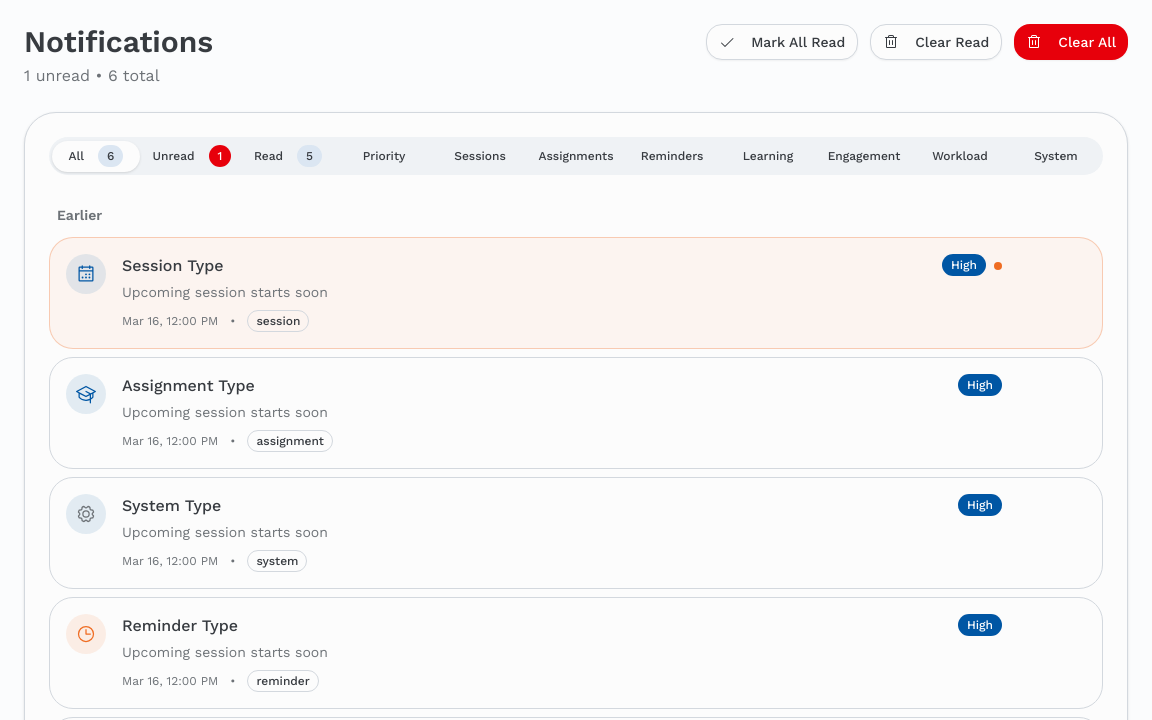
Notifications › handles notifications with different types
Expected: the text "Session Type" is shown, left=122, top=256, right=224, bottom=275
Expected: the text "Assignment Type" is shown, left=122, top=376, right=255, bottom=395
Click the tab "Sessions" at (480, 156), box left=436, top=140, right=524, bottom=172
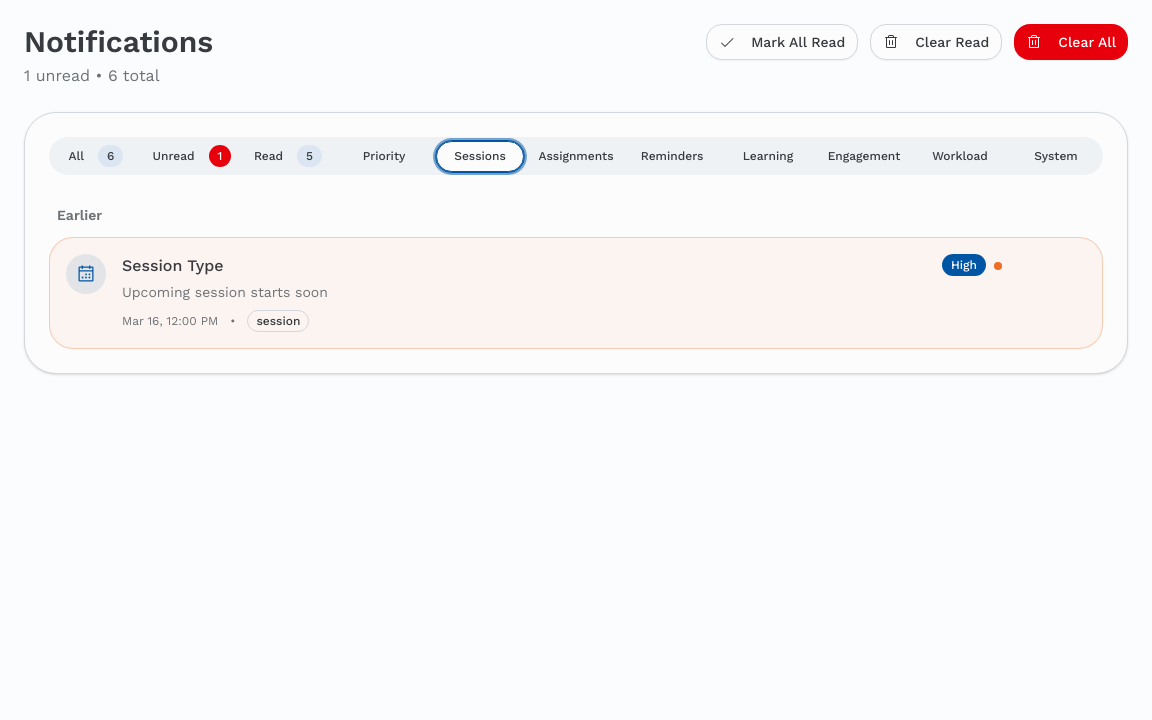
Expected: the text "Session Type" is shown, left=122, top=256, right=224, bottom=275
Result: the button "System Type" is gone
Click the tab "Assignments" at (576, 156), box left=532, top=140, right=620, bottom=172
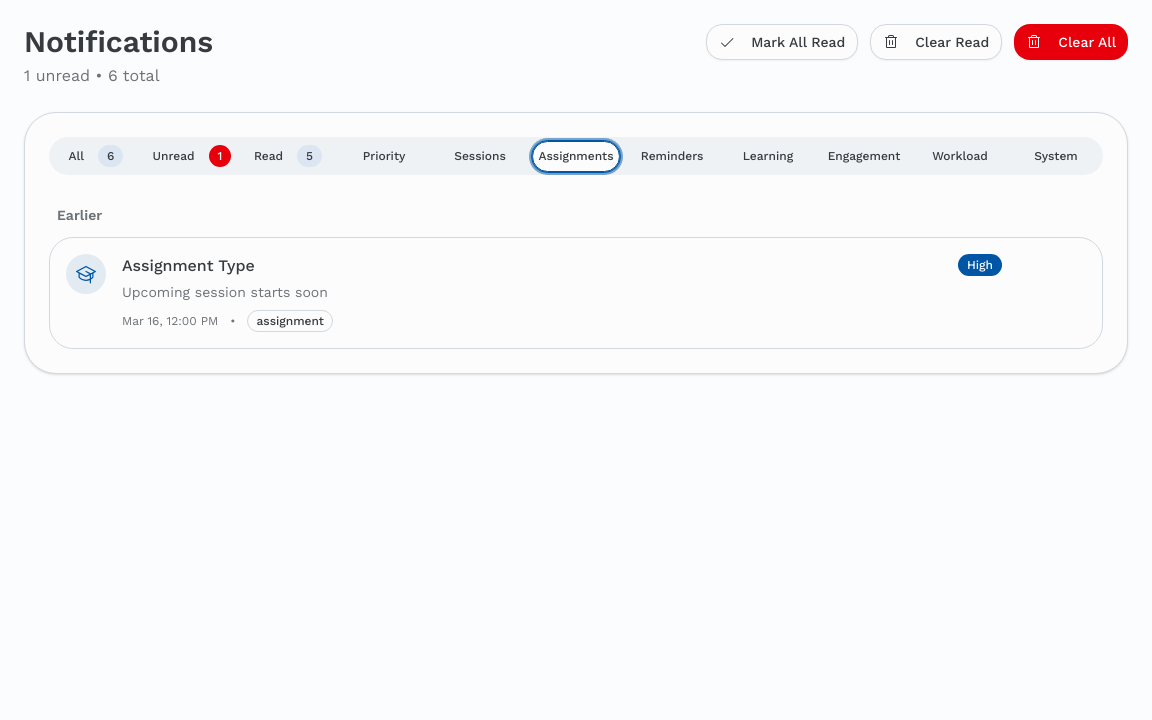
Result: the text "Assignment Type" is shown at left=122, top=256, right=255, bottom=275
Result: the button "Session Type" is gone
Click the tab "System" at (1056, 156), box left=1012, top=140, right=1100, bottom=172
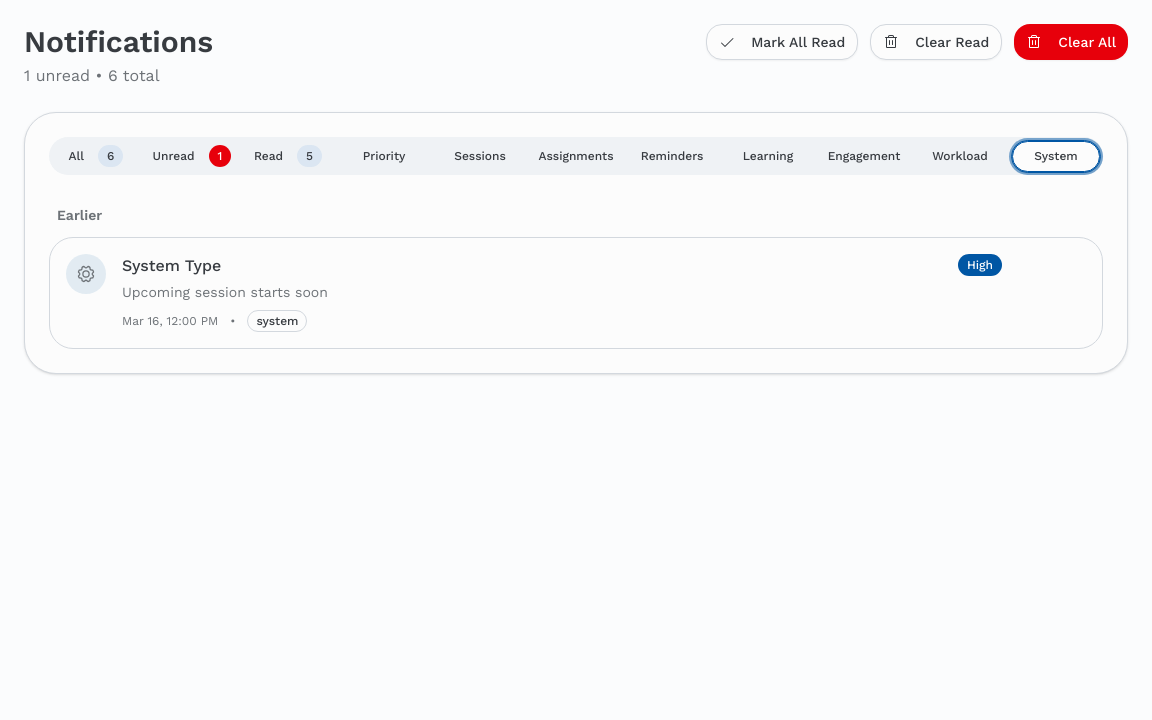
Expected: the button "Reminder Type" is not shown
Result: the text "System Type" is shown at left=122, top=256, right=221, bottom=275
Click the tab "Reminders" at (672, 156), box left=628, top=140, right=716, bottom=172
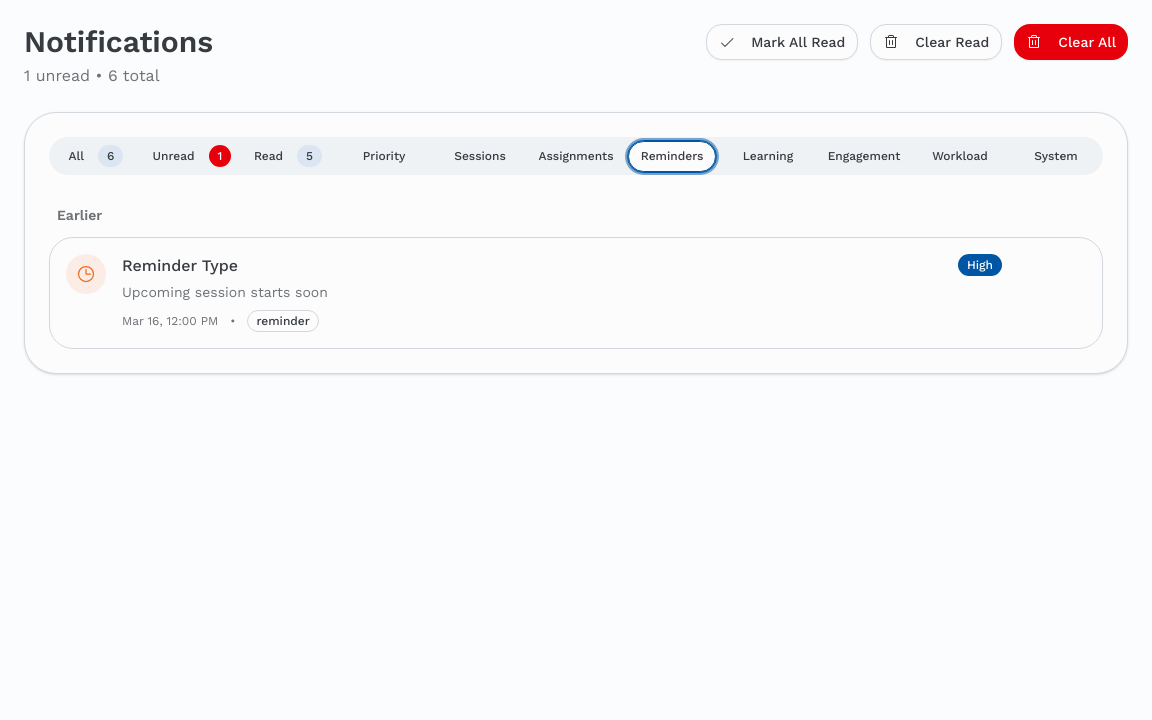
Expected: the text "Workload Type" is not shown
Result: the text "Reminder Type" is shown at left=122, top=256, right=238, bottom=275
Click the tab "Workload" at (960, 156), box left=916, top=140, right=1004, bottom=172
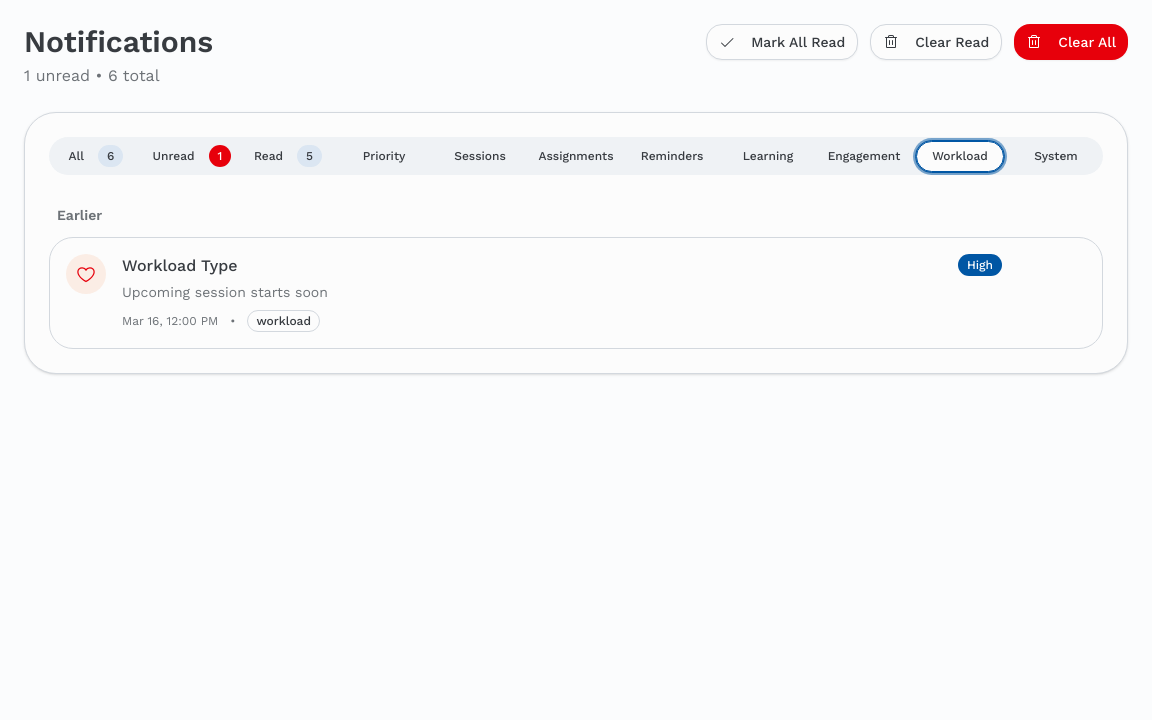
Expected: the button "Session Type" is not shown
Result: the text "Workload Type" is shown at left=122, top=256, right=238, bottom=275
